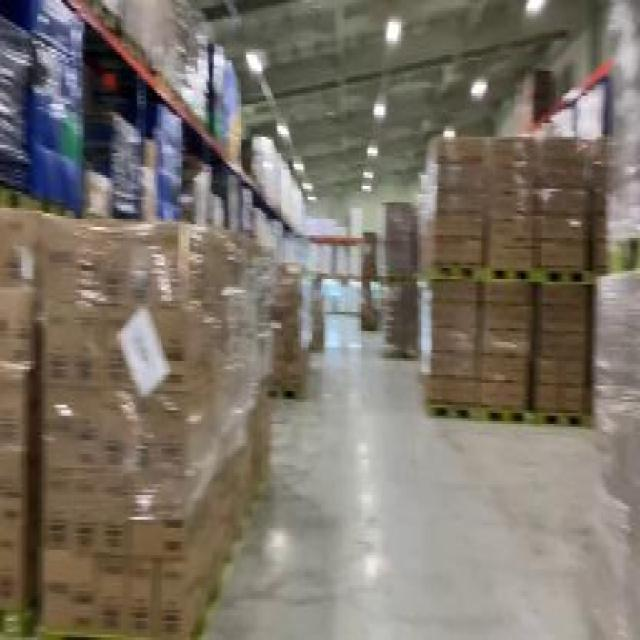box: (1, 202, 268, 638), (422, 137, 598, 424), (2, 3, 92, 224), (268, 257, 329, 397), (104, 96, 158, 235), (378, 194, 422, 358), (208, 46, 246, 162), (157, 101, 188, 222), (512, 63, 552, 137), (357, 230, 381, 339)
white_roll: (260, 136, 311, 222), (332, 219, 350, 279), (350, 202, 364, 279)
